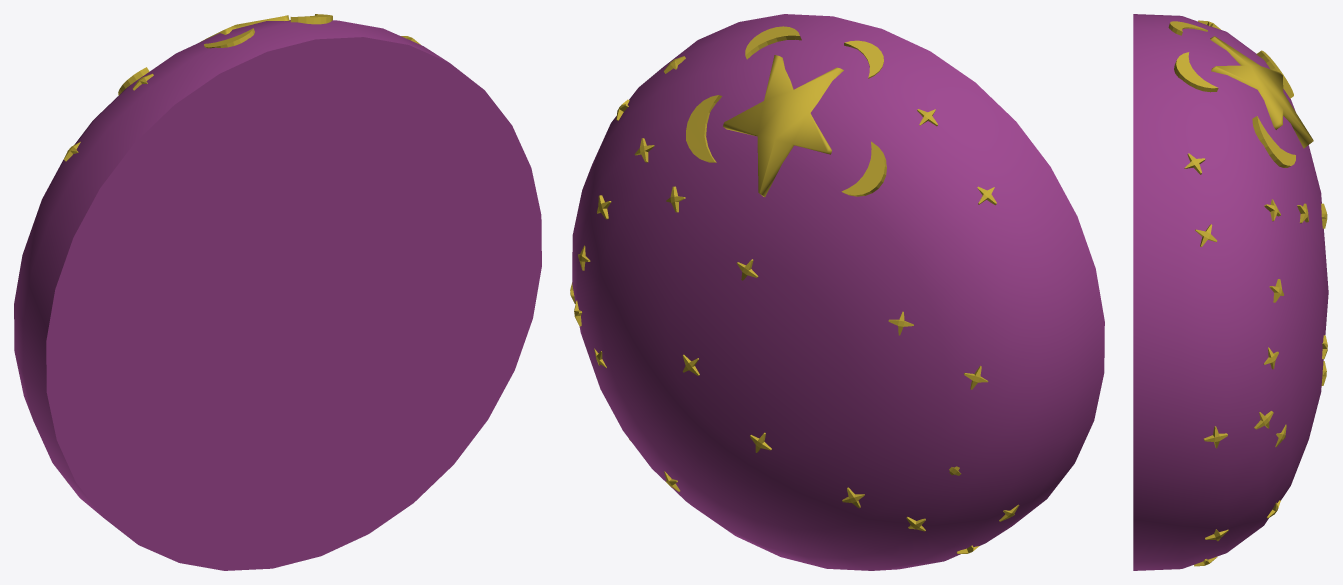
Rendered from Magic_Burger Top.fbx.
3 renders of one model, left to right at view 1: azimuth 30°, elevation 25°; view 2: azimuth 150°, elevation 25°; view 3: azimuth 270°, elevation 25°, orthographic. The views are drawn at different scales.
Visible parts, largest first — view 1: Burger Bread A; view 2: Burger Bread A; view 3: Burger Bread A.
Part boxes in pixels (x1,y1,x2,y2): Burger Bread A: (14,14,541,570); Burger Bread A: (570,14,1104,570); Burger Bread A: (1133,14,1328,570).
Size of the model in its own units: 74.7 by 75.02 by 26.25.
